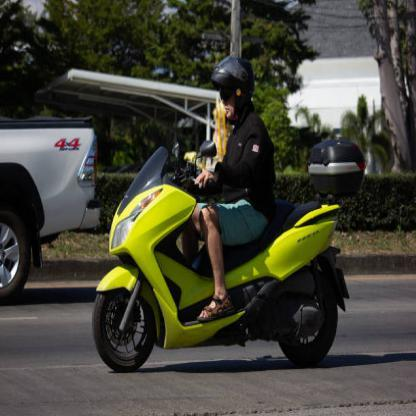Motorcycle: (91, 152, 351, 374)
